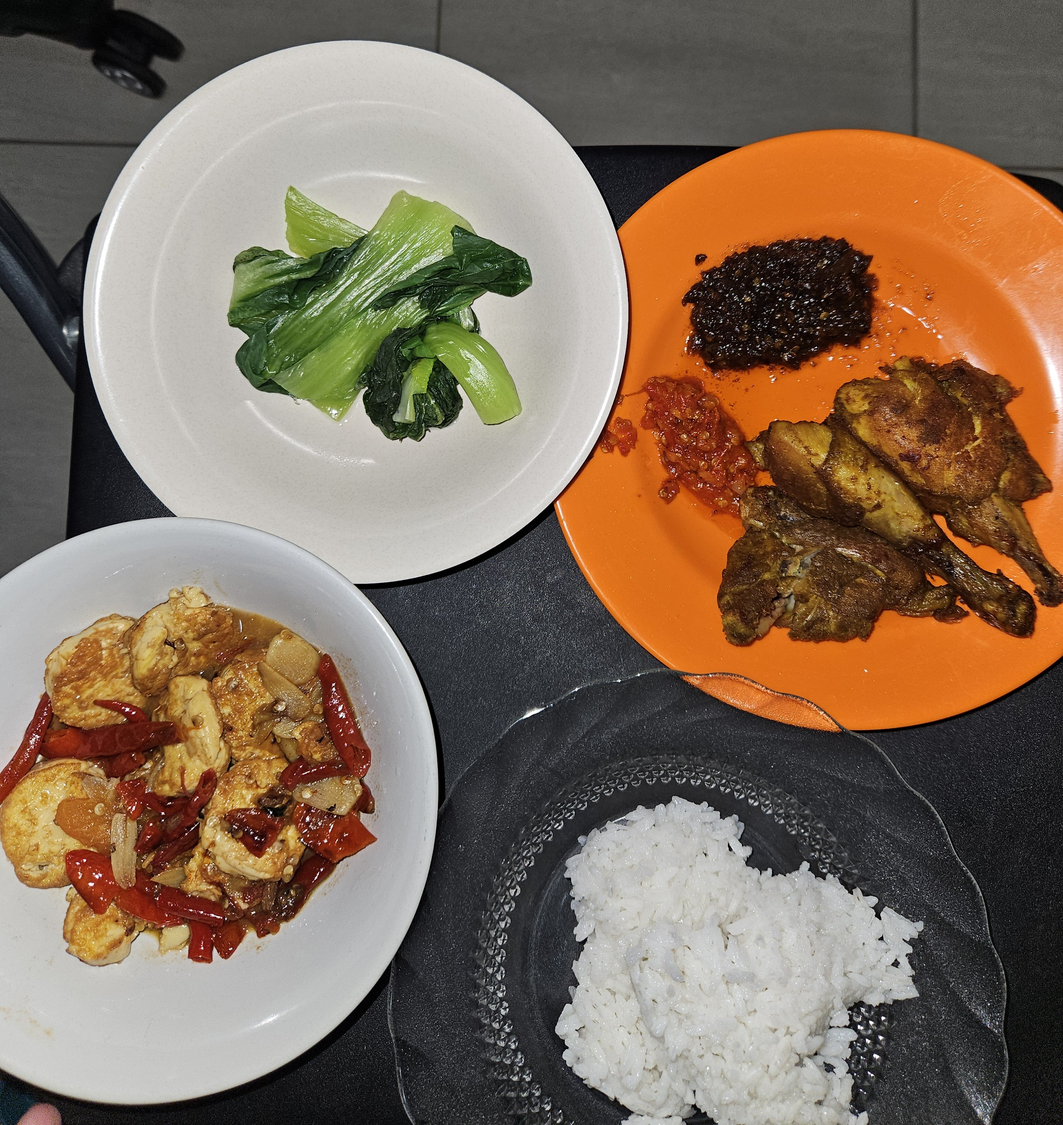buah_sayur_lainnya: (259, 197, 534, 449)
daging: (710, 366, 1020, 641)
makanan_berpati: (581, 822, 914, 1125)
